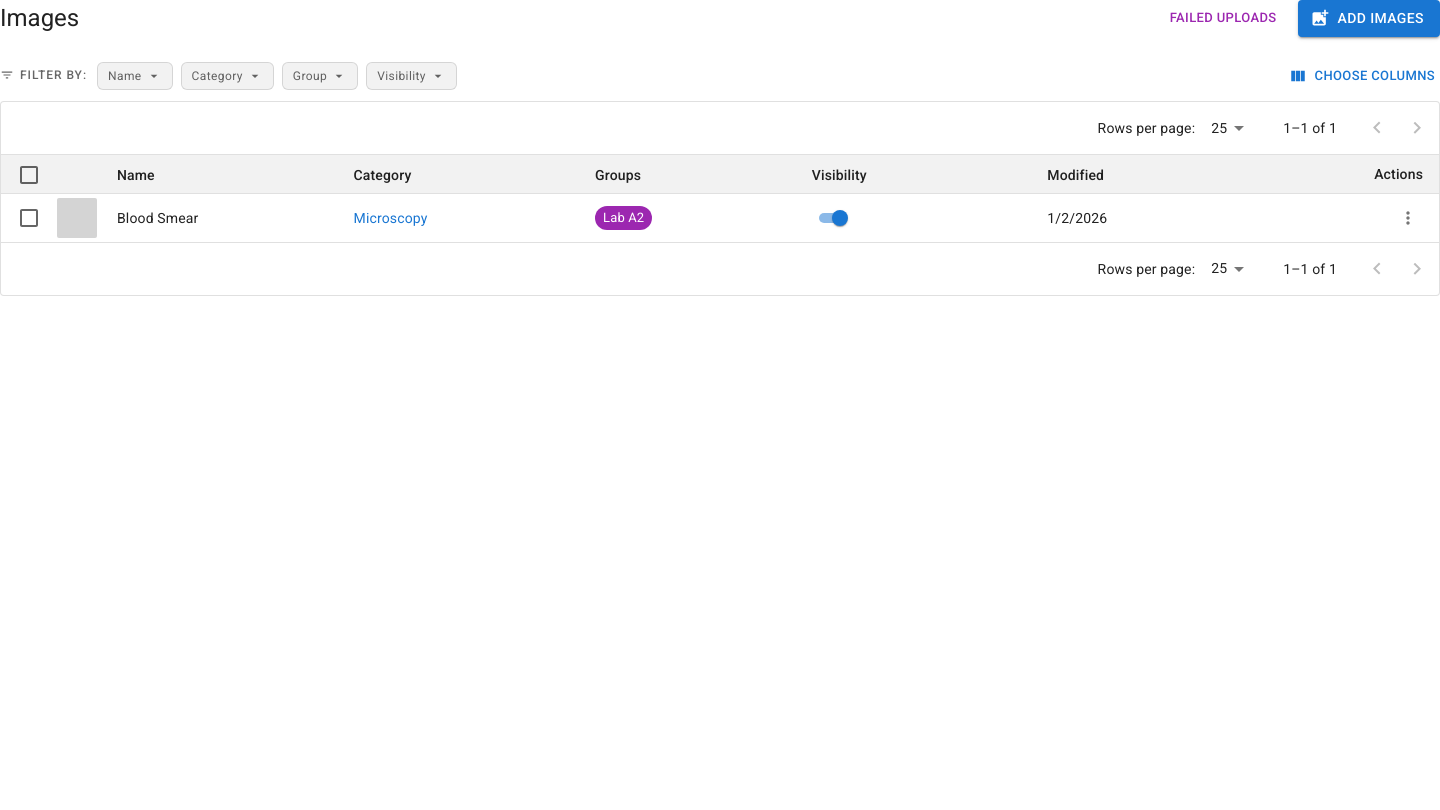
Test: ManagePage › keeps the filter bar in sync with visible columns
The width and height of the screenshot is (1440, 810).
Expected: the text "Blood Smear" is shown, x1=101 y1=193 x2=338 y2=242
Expected: the button "Group" is shown, x1=282 y1=62 x2=358 y2=90
Click the button "Choose columns" at [1363, 76], box x1=1286 y1=60 x2=1439 y2=91
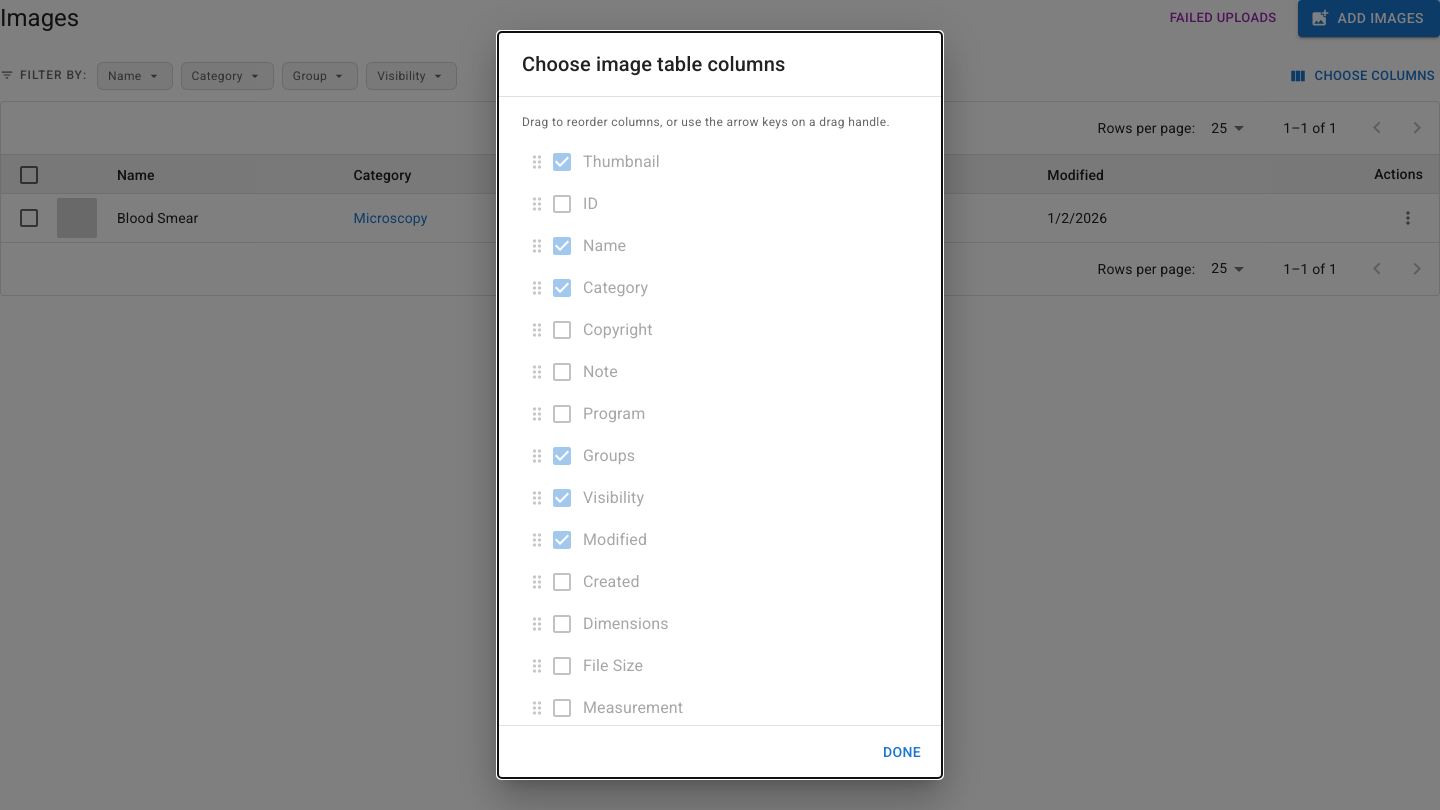
Click the 3rd checkbox labelled "Groups" at [593, 456], box x1=550 y1=444 x2=635 y2=468
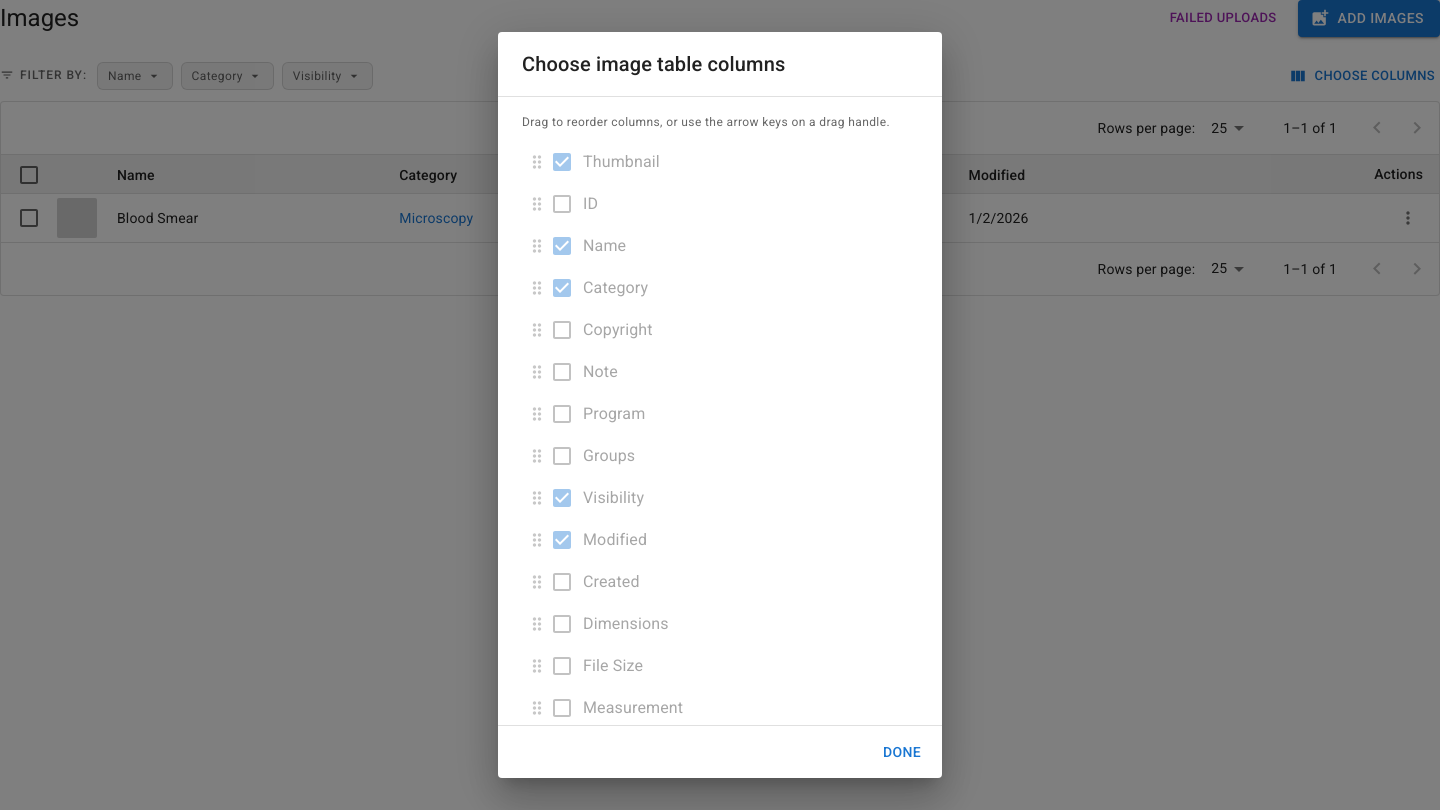
Click the button "Done" at [902, 752], box x1=870 y1=734 x2=934 y2=770
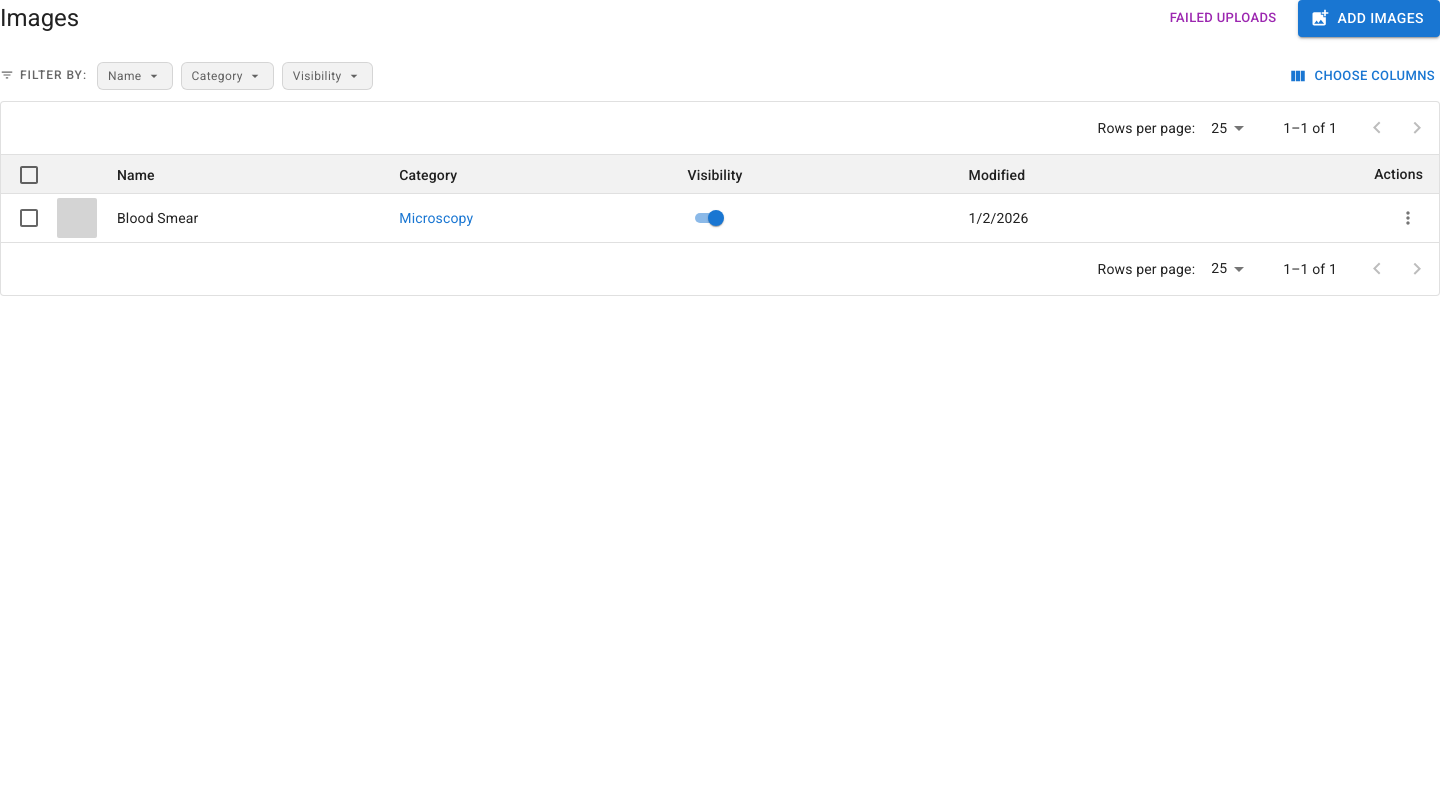
Result: the heading "Choose image table columns" is gone
Result: the text "Groups" is gone
Result: the text "Group" is gone
